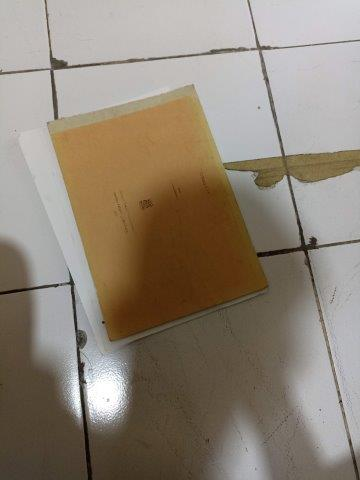kertas: (18, 84, 270, 355)
